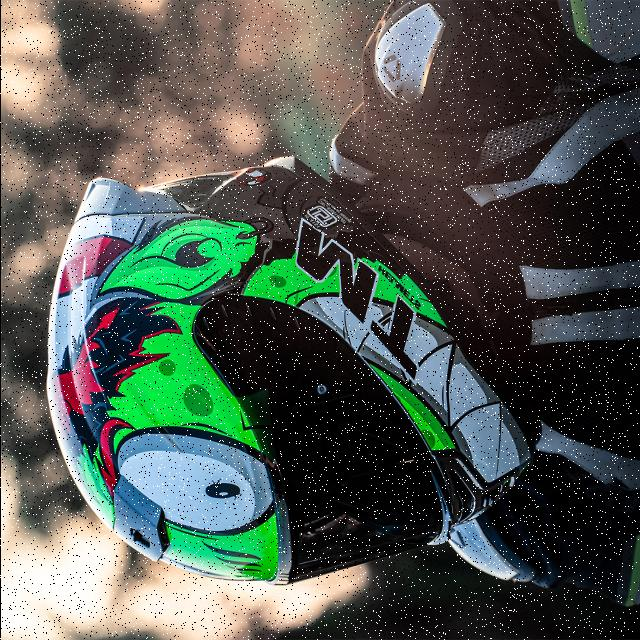Helmet: (46, 164, 535, 582)
